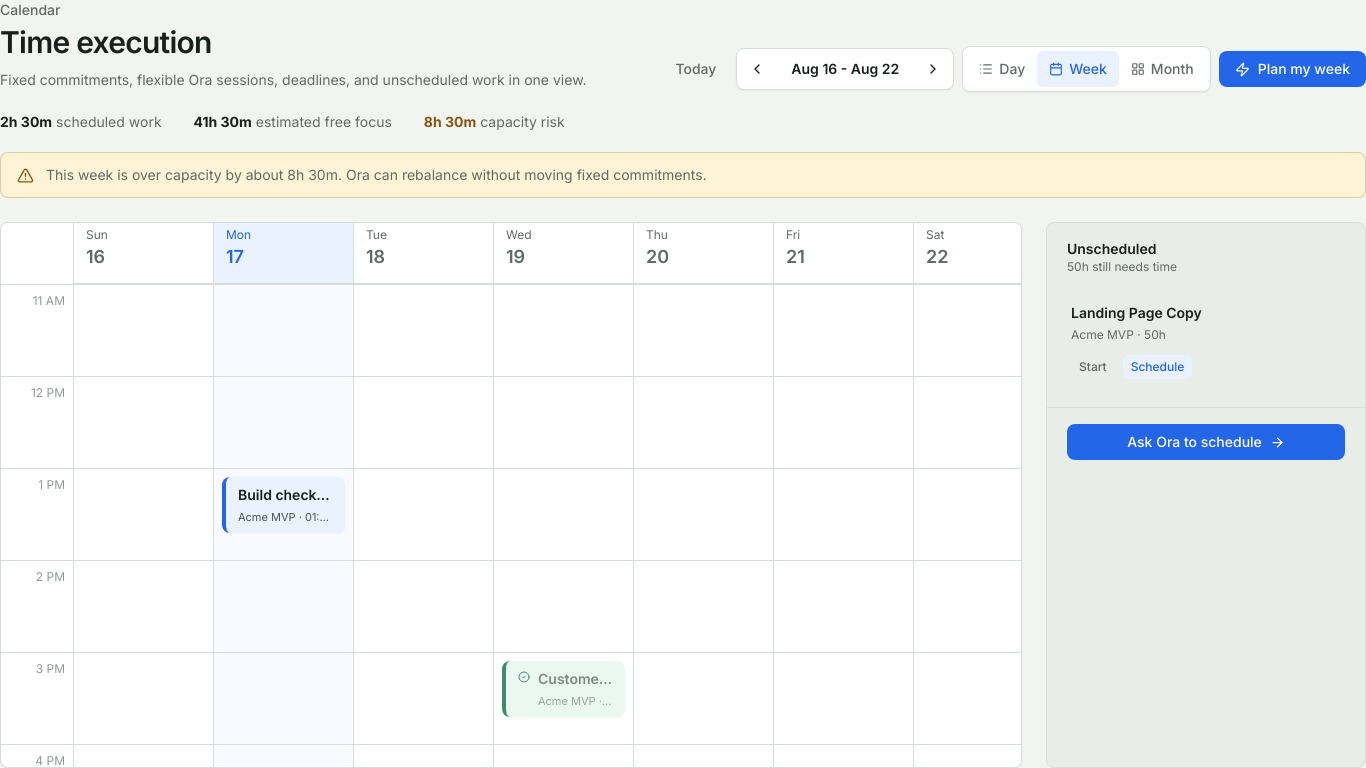
Test: ScheduleView › opens a compact inspector for a session
(page scrolled)
What coordinates should you click on to do the following:
click the text "Build checkout integration"
I would click on:
 (286, 495)
Its box is [238,485,333,505].
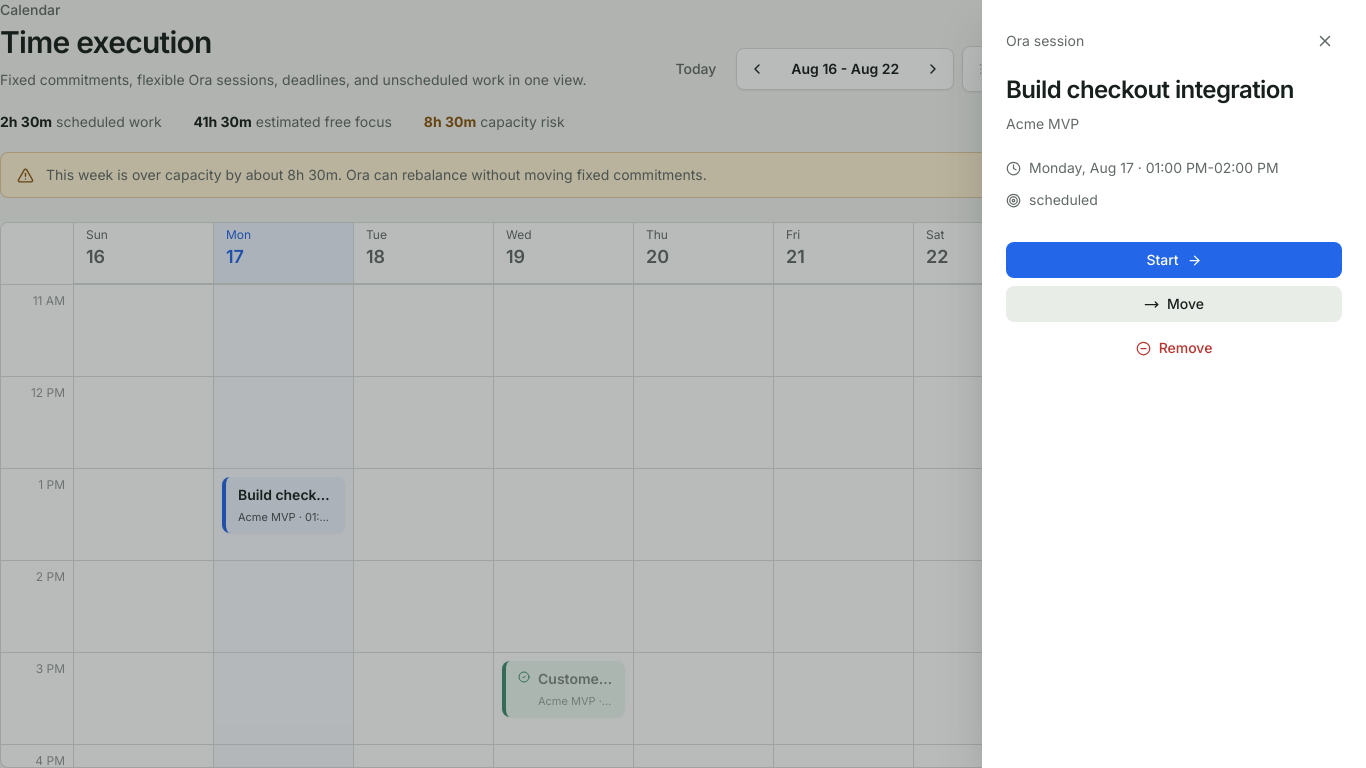
Expected: the text "Ora session" is shown, [1006,31,1084,51]
Expected: the text "Acme MVP" is shown, [1006,115,1079,132]
Expected: the button "Move" is shown, [1006,286,1342,322]
